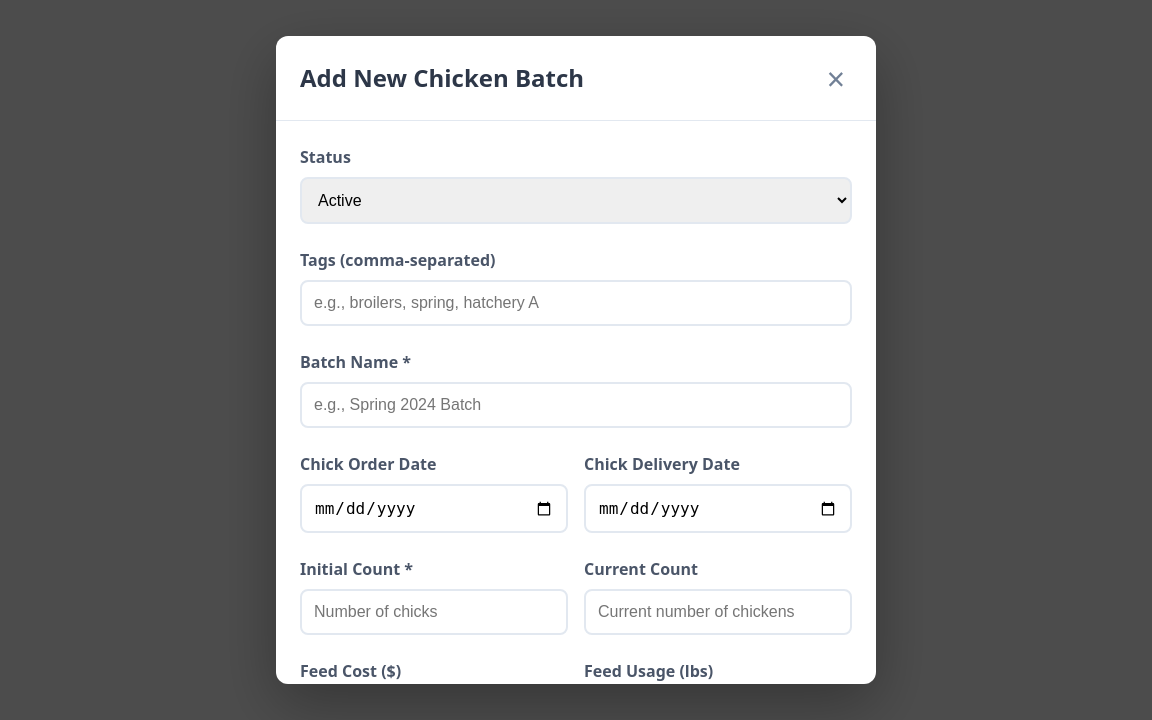
ChickenForm › submit failure shows submit error and logs
Type "Boom" into the field labelled "Batch Name *" at (576,405), box [300,382,852,428]
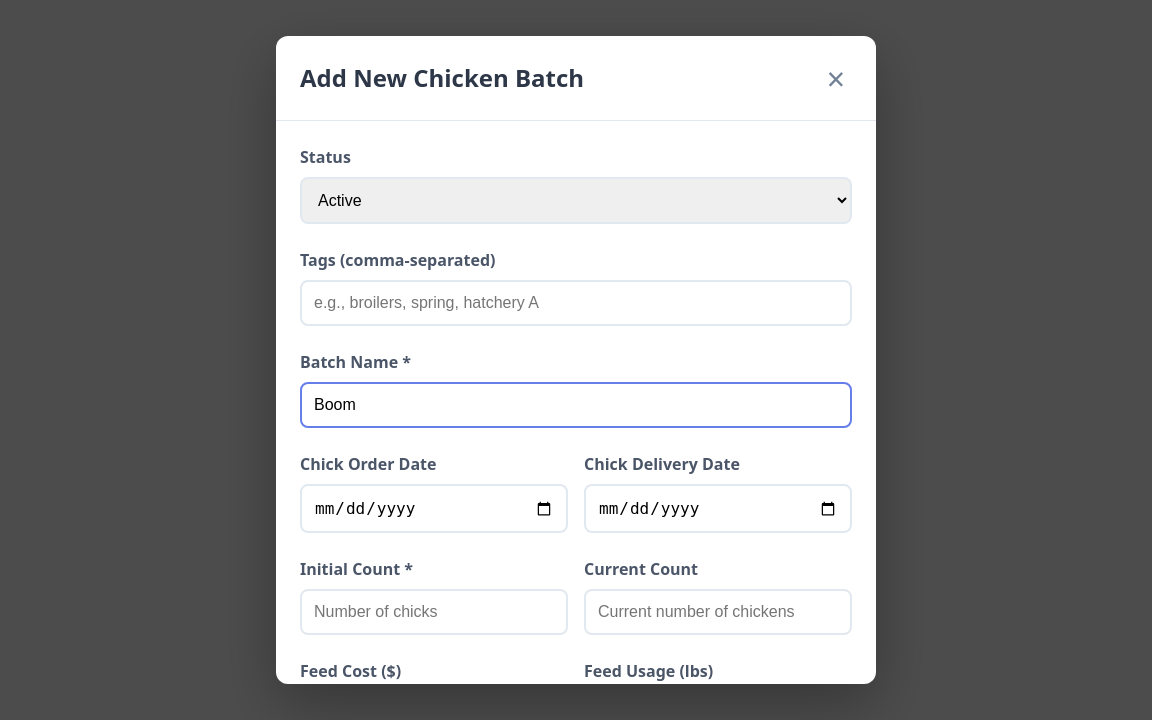
Type "5" into the number field labelled "Initial Count *" at (434,612), box [300,589,568,635]
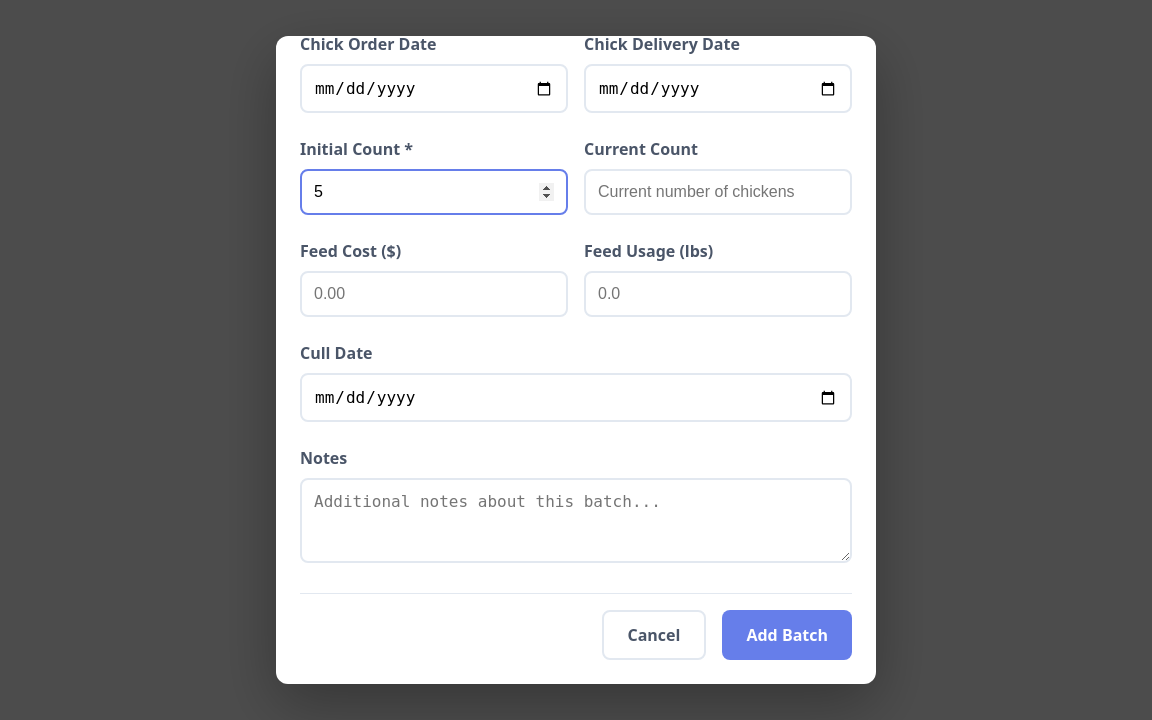
Click the button "Add Batch" at (787,635), box [722,610,852,660]
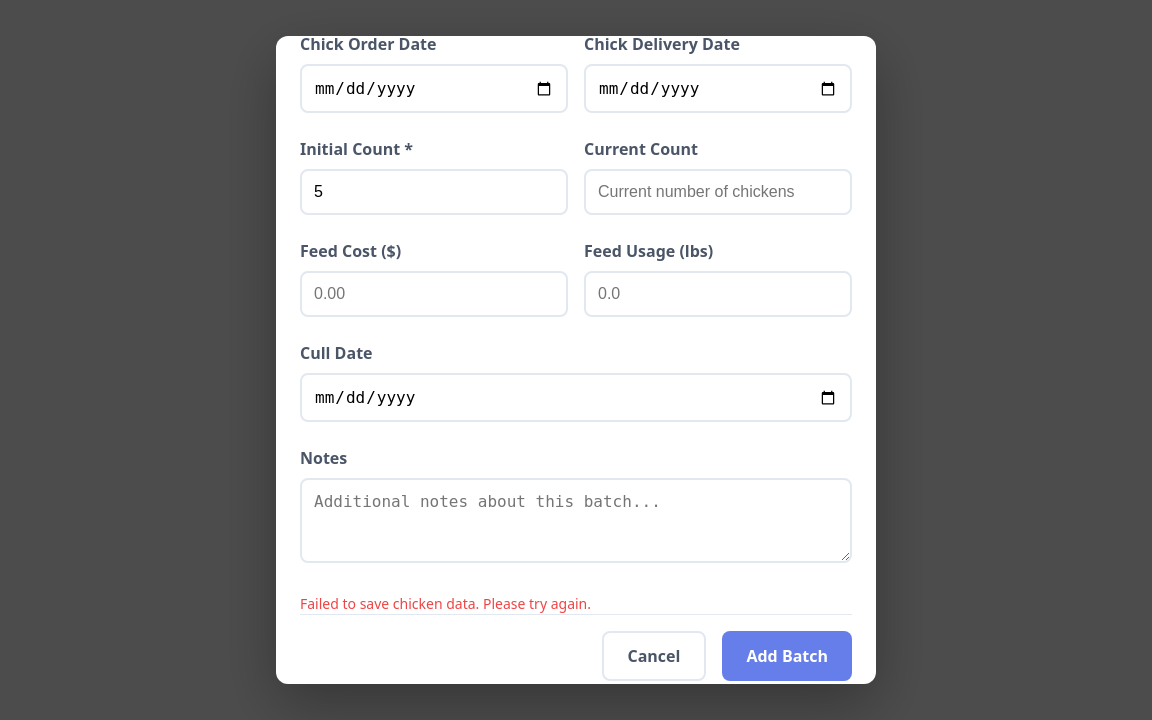
Expected: the text "Failed to save chicken data. Please try again." is shown, [300,594,591,613]
